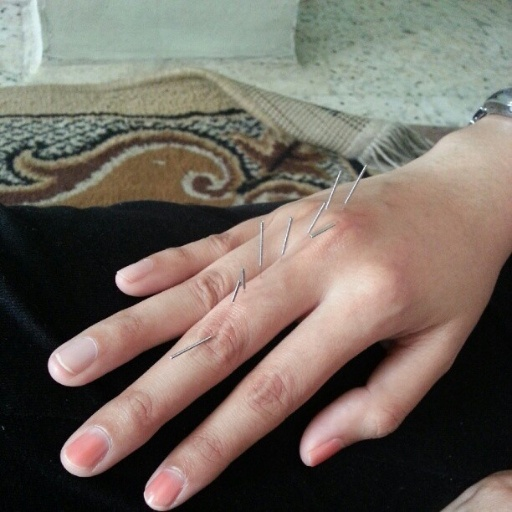hand: (46, 133, 510, 510), (442, 467, 510, 510)
